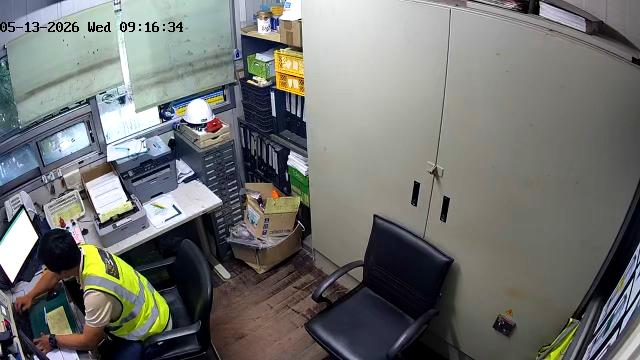Head: (38, 229, 81, 278)
People: (16, 229, 173, 359)
